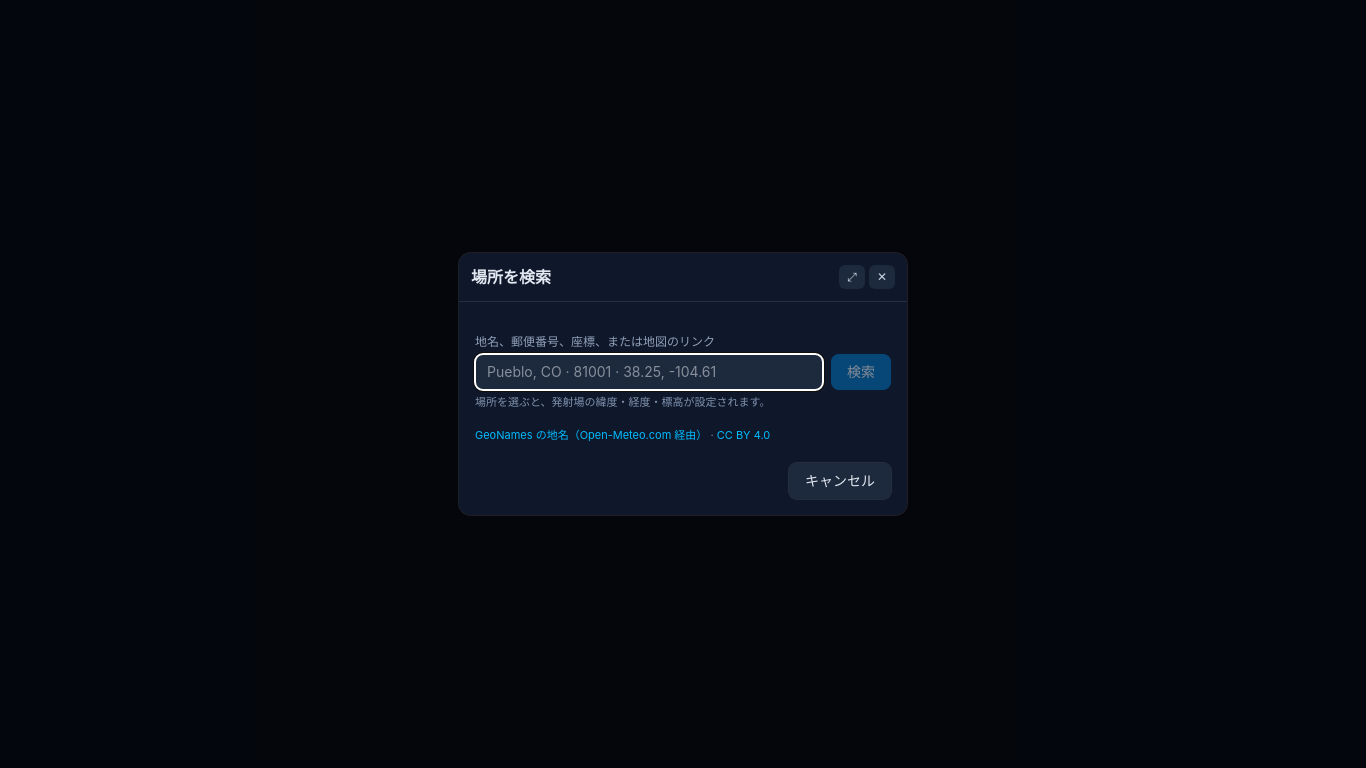
Scenario: PlaceSearchDialog place detail › orders region and country as the language does
The image size is (1366, 768).
Type "Pueblo" into the field labelled "地名、郵便番号、座標、または地図のリンク" at (649,372), box [475,354,823,390]
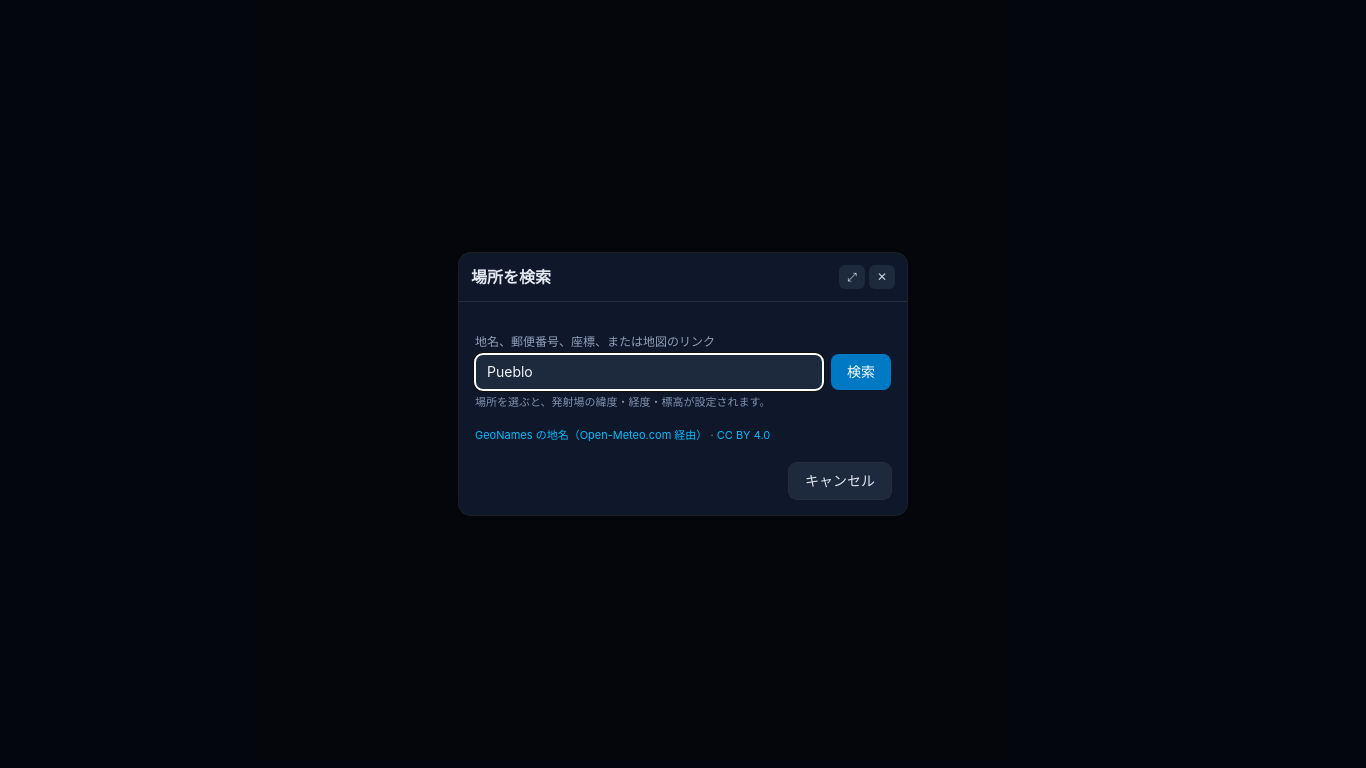
Click the button "検索" at (861,372), box [831,354,891,390]
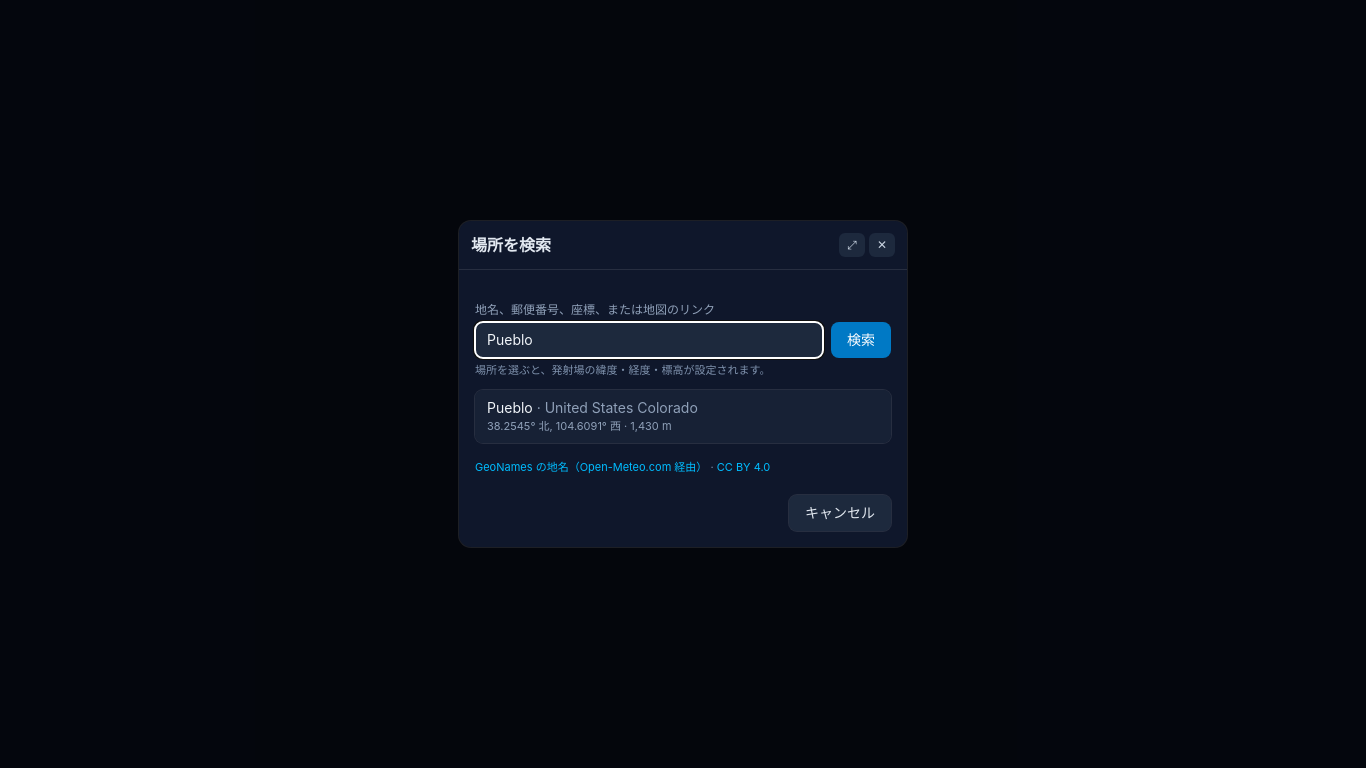
Check: the button that starts with "Pueblo" is shown, box [475,390,891,443]
